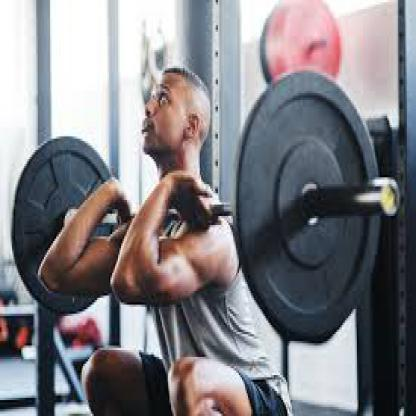Barbell: (227, 66, 406, 350)
